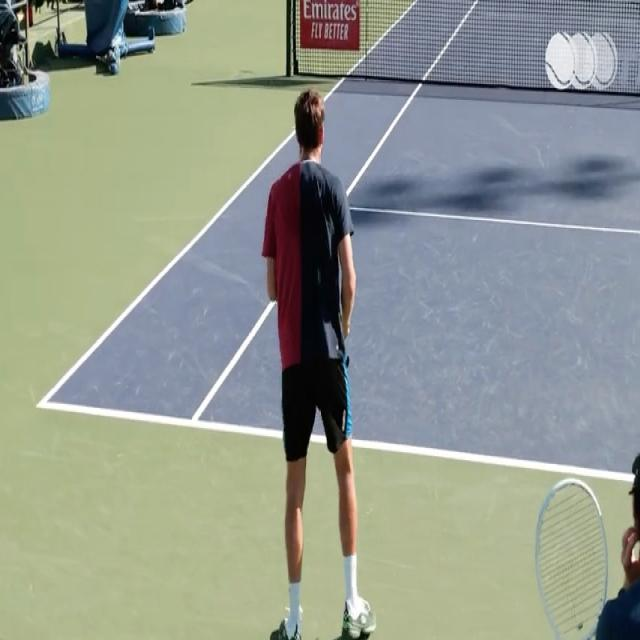ready-position: (251, 85, 379, 637)
